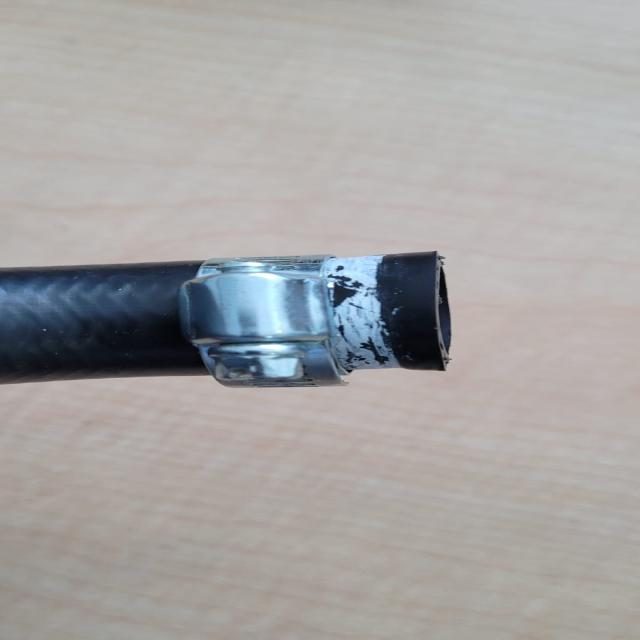clamp: (178, 257, 352, 389)
pipe: (338, 256, 449, 372)
